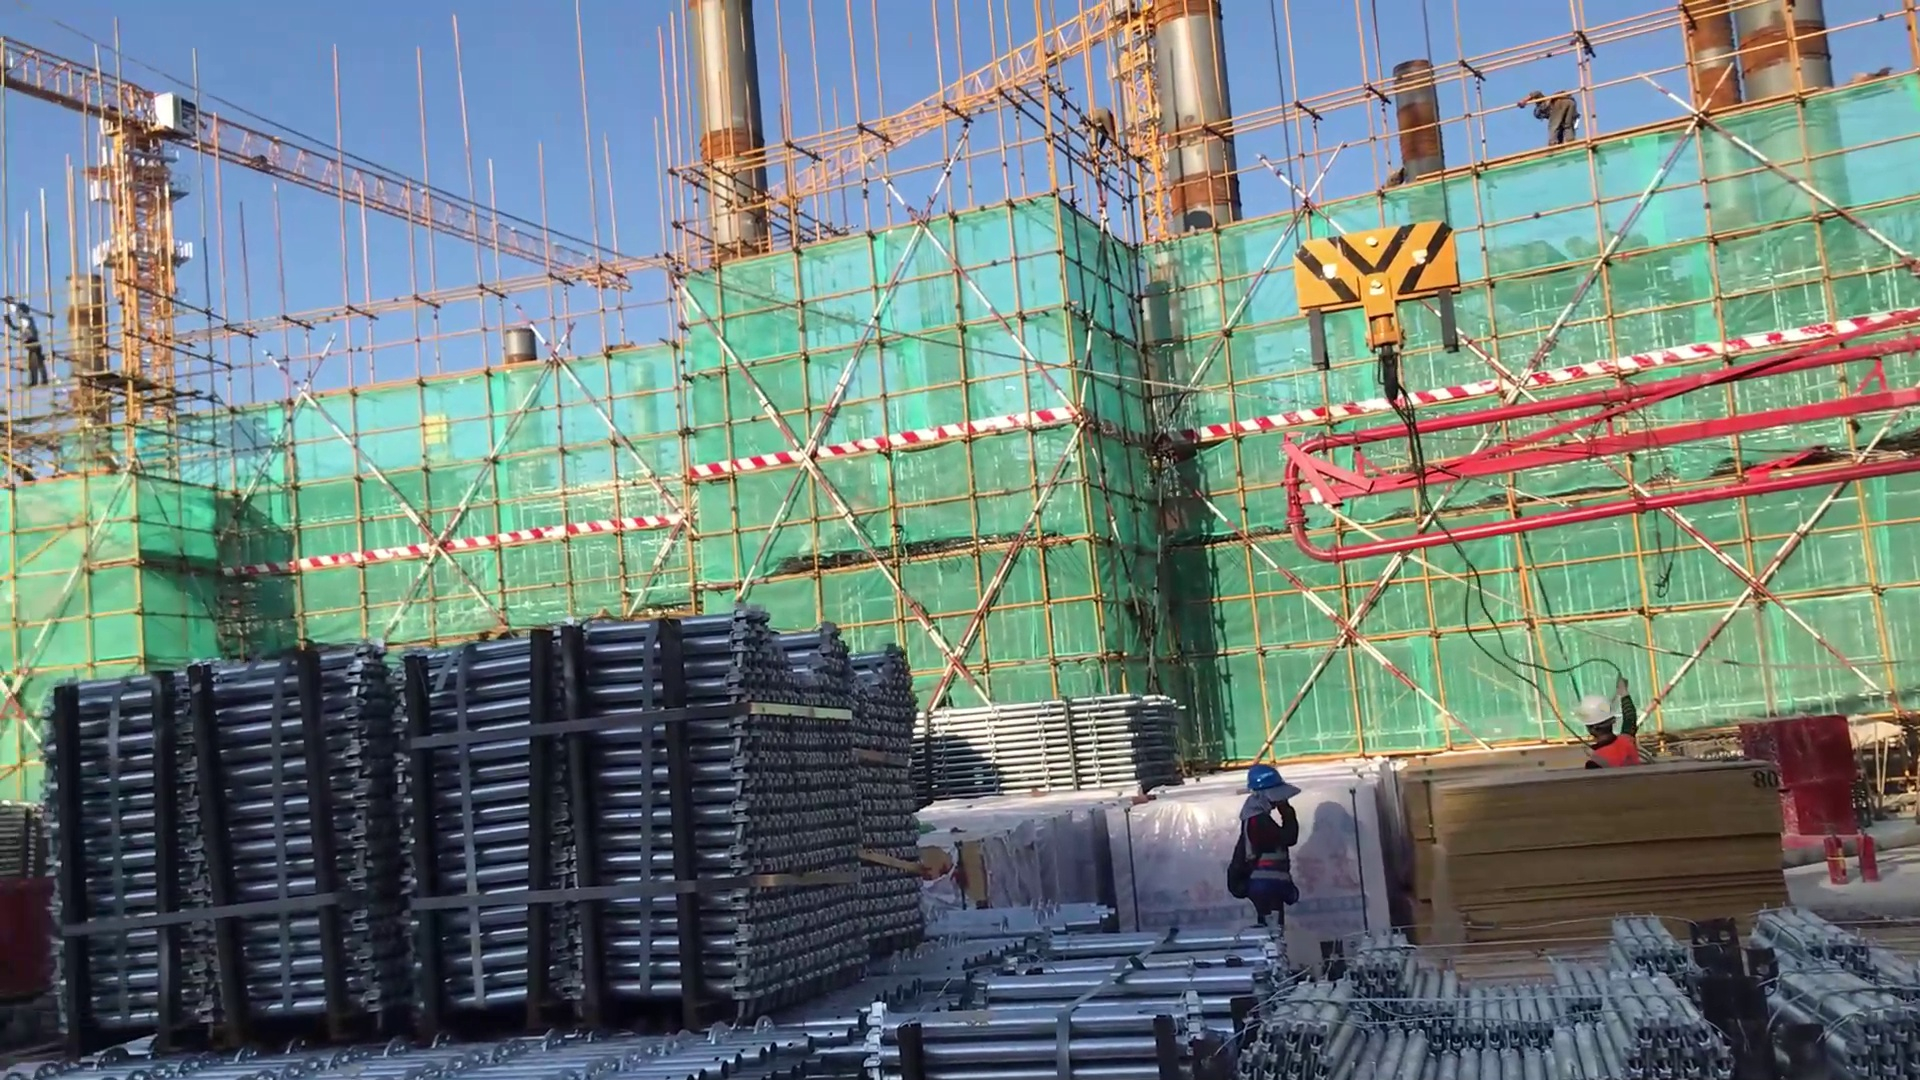board: (1397, 762, 1790, 938)
helmet: (1241, 754, 1291, 801), (1576, 694, 1623, 736)
hook: (1280, 203, 1501, 452)
person: (1221, 758, 1306, 960), (1566, 676, 1658, 785), (1519, 85, 1601, 160), (1, 293, 51, 406)
scaffold: (31, 571, 940, 1041), (1237, 912, 1733, 1080), (866, 896, 1293, 1073), (1, 1003, 852, 1077), (893, 692, 1223, 819), (1741, 894, 1920, 1080), (1, 799, 69, 883)
vest: (1236, 801, 1301, 904), (1579, 737, 1645, 778)
